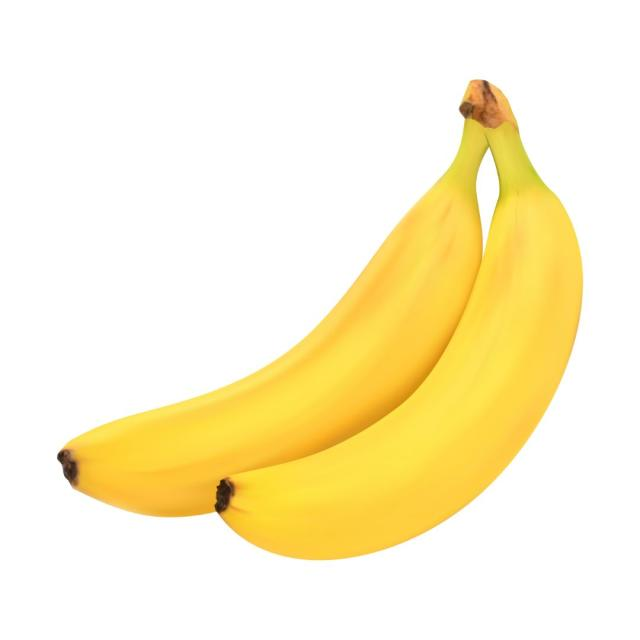Pisang: (54, 74, 586, 560)
